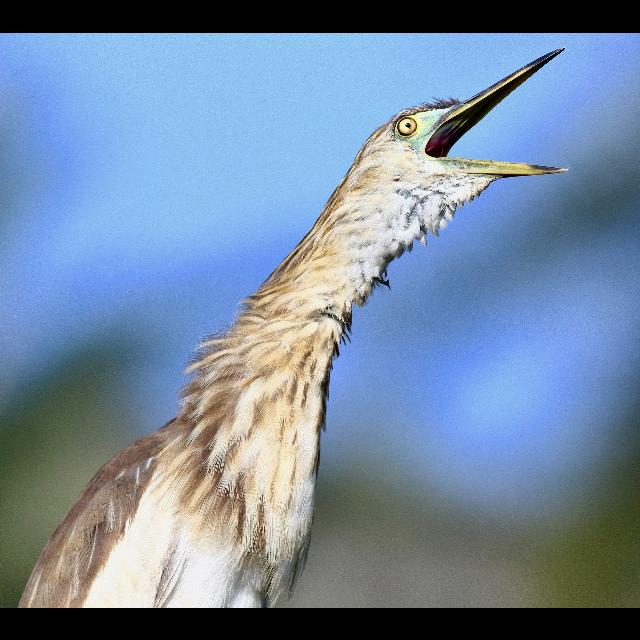heron: (18, 44, 568, 600)
